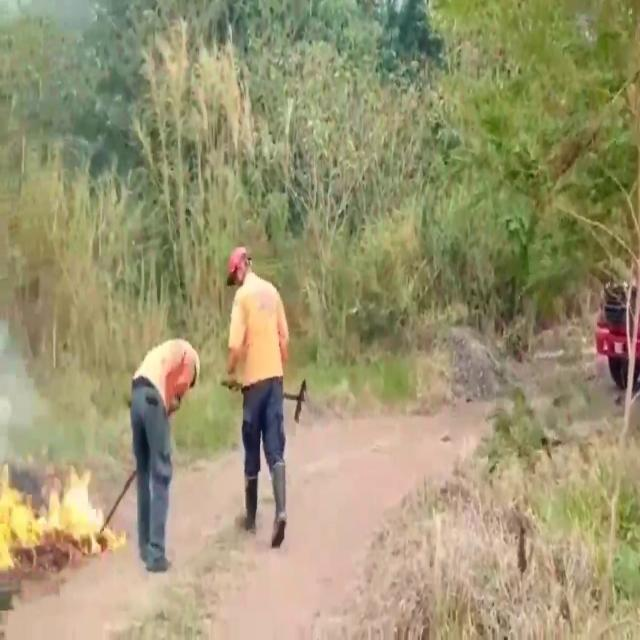Fire: (0, 446, 110, 568)
